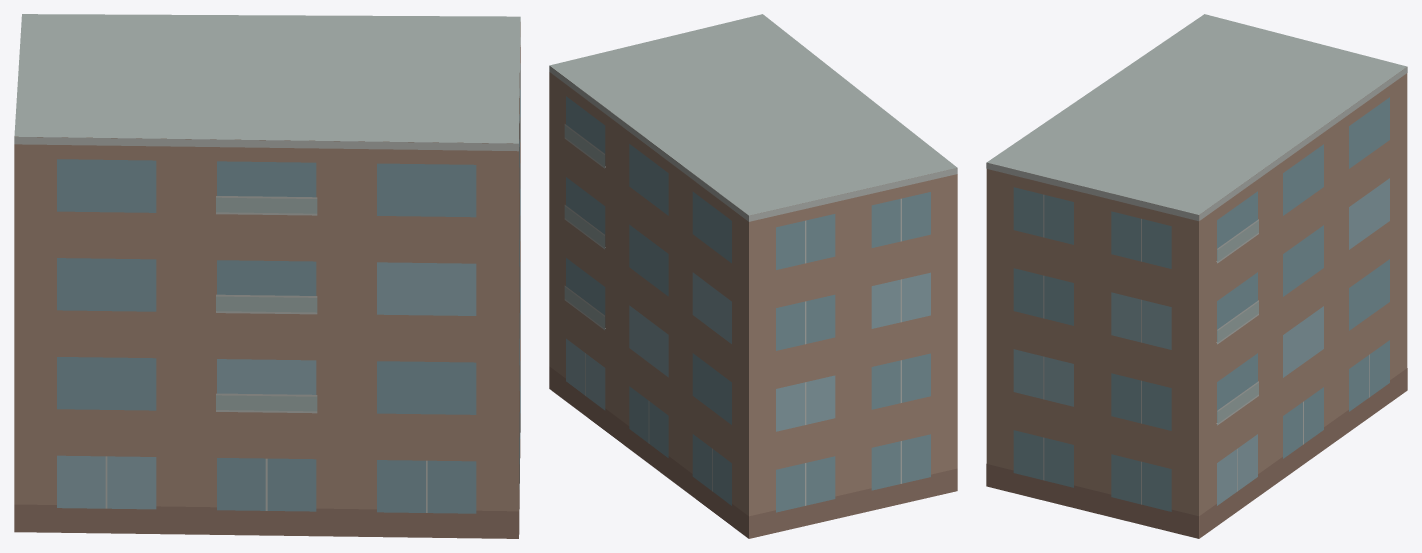
Rendered from survey-upis-32501036.glb.
The picture shows the model from 3 angles, left to right: view 1: azimuth 30°, elevation 25°; view 2: azimuth 150°, elevation 25°; view 3: azimuth 270°, elevation 25°; orthographic projection. The views are drawn at different scales.
Parts seen in each view (by area): view 1: survey-upis-32501036.tmp; view 2: survey-upis-32501036.tmp; view 3: survey-upis-32501036.tmp.
Part boxes in pixels (x1=…): survey-upis-32501036.tmp: x1=14, y1=14, x2=520, y2=538; survey-upis-32501036.tmp: x1=549, y1=14, x2=957, y2=538; survey-upis-32501036.tmp: x1=986, y1=14, x2=1407, y2=538.
Bounding box in the file's own units: 16.78 × 12.6 × 14.85.
